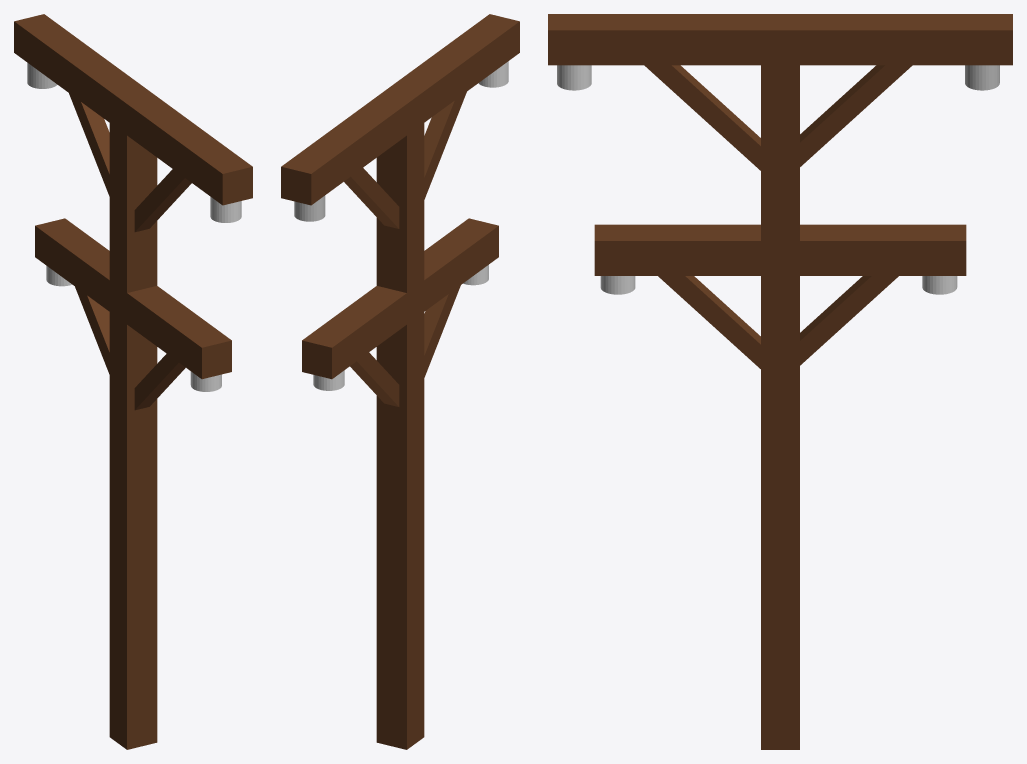
Rendered from simple_pole.glb.
3 renders of one model, left to right at view 1: azimuth 30°, elevation 25°; view 2: azimuth 150°, elevation 25°; view 3: azimuth 270°, elevation 25°, orthographic. The views are drawn at different scales.
Bounding box in the file's own units: 1 × 20.5 × 12.
